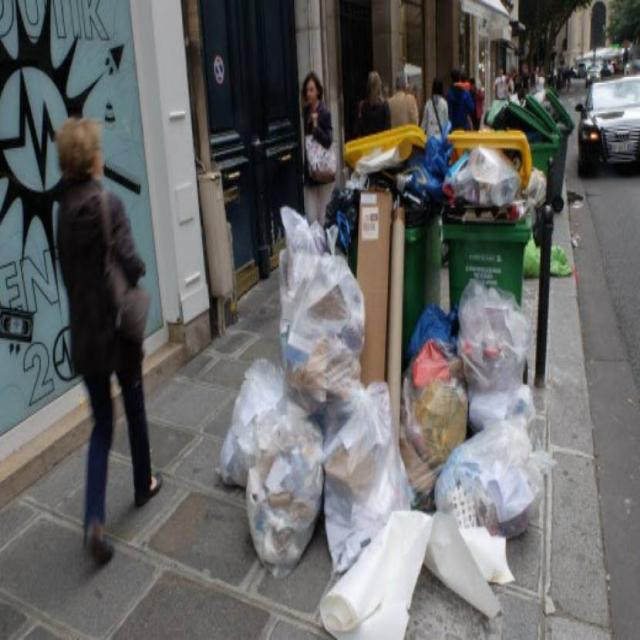garbage: (264, 105, 634, 601)
